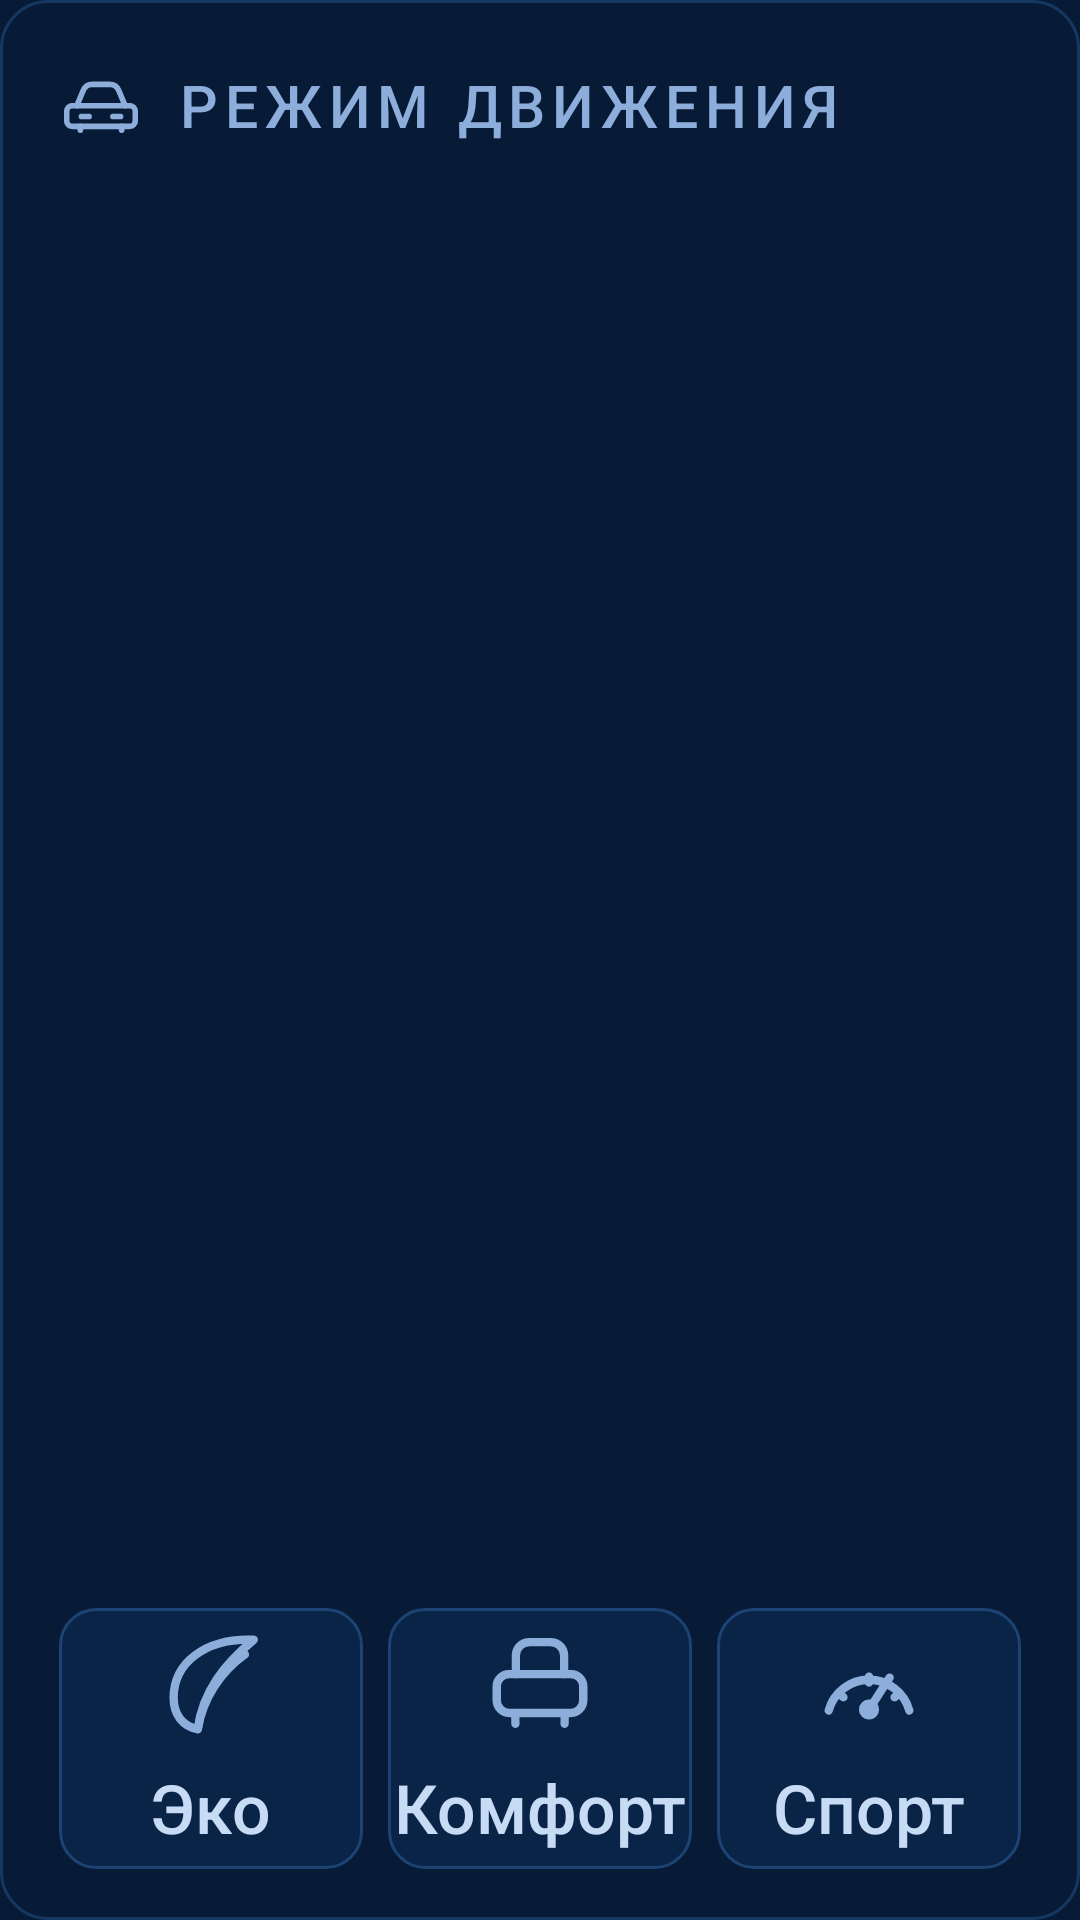

Named icons in this screenshot (1080x1920) and their centers, [x,y]:
hub car: [101,107]
hub comfort: [540,1683]
hub leaf: [213,1684]
hub sport: [869,1696]
